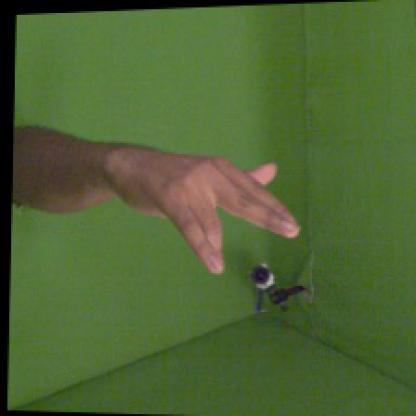Hand: (102, 144, 304, 274)
